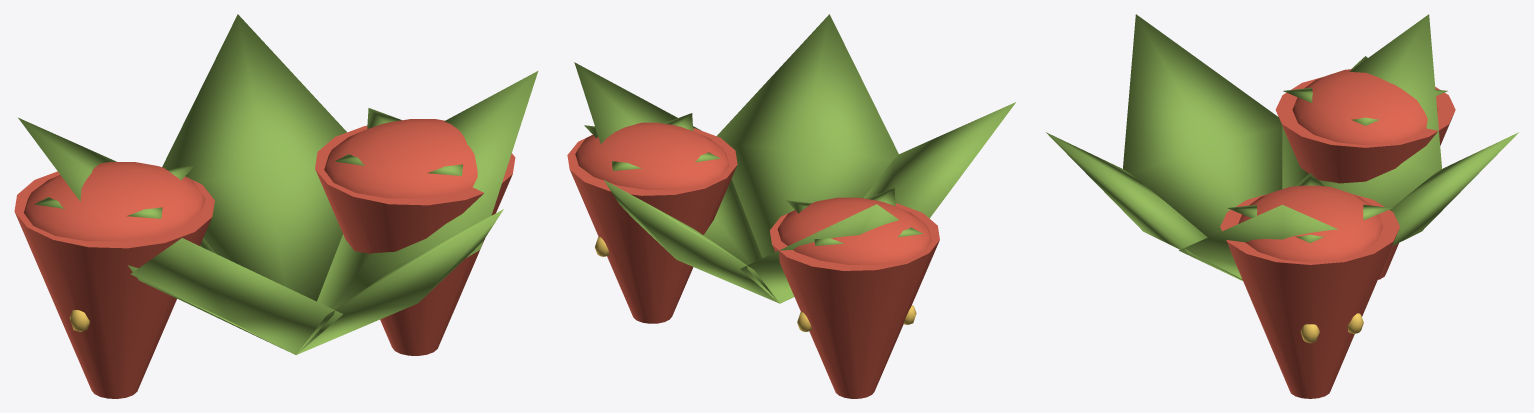
File: crop_6_stage_3.fbx
The picture shows the model from 3 angles, left to right: view 1: azimuth 30°, elevation 25°; view 2: azimuth 150°, elevation 25°; view 3: azimuth 270°, elevation 25°; orthographic projection. The views are drawn at different scales.
Visible parts, largest first — view 1: crop_6_stage_3; view 2: crop_6_stage_3; view 3: crop_6_stage_3.
Boxes of the visible parts, x1,y1,x2,y2 form: crop_6_stage_3: [14, 14, 538, 398]; crop_6_stage_3: [567, 14, 1015, 398]; crop_6_stage_3: [1046, 14, 1518, 398].
Bounding box in the file's own units: 0.6527 × 0.35 × 0.6477.
1 material, 1 textured.
